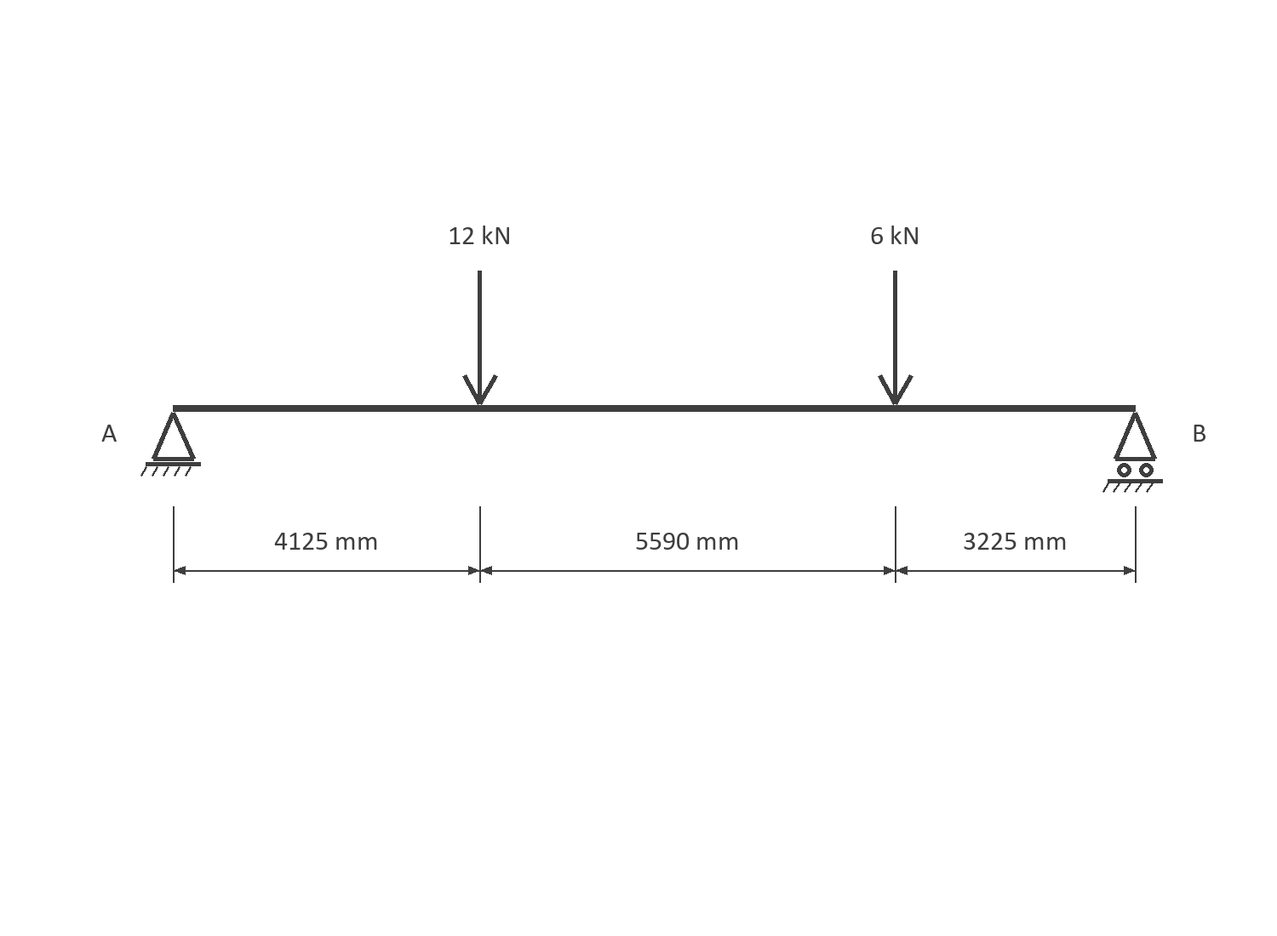pin_support: (140, 412, 201, 477)
point_load: (462, 271, 498, 405), (878, 271, 913, 405)
roller_support: (1102, 412, 1163, 493)
